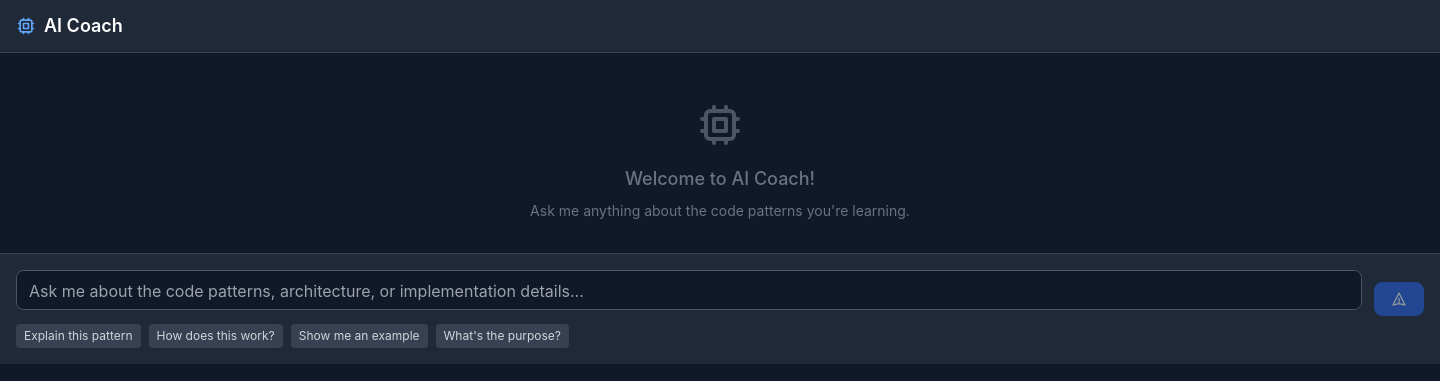
Scenario: Coach Chat Integration › Message Input and Sending › quick action buttons populate input
Step 1. Click the button "Explain this pattern" → (78, 336), box x1=16 y1=324 x2=140 y2=348
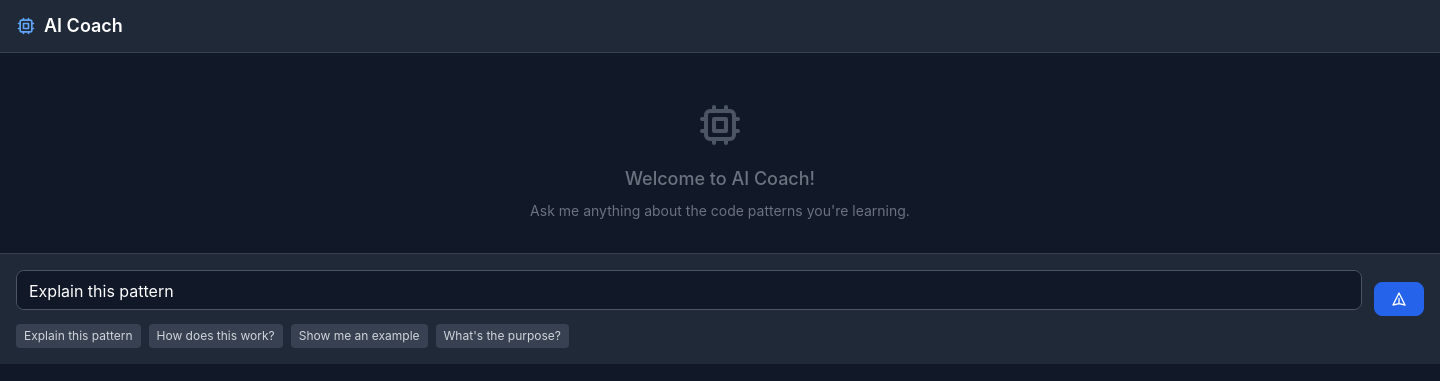
Check: the text box with placeholder "Ask me about the code patterns" holds "Explain this pattern", box x1=16 y1=270 x2=1362 y2=310
